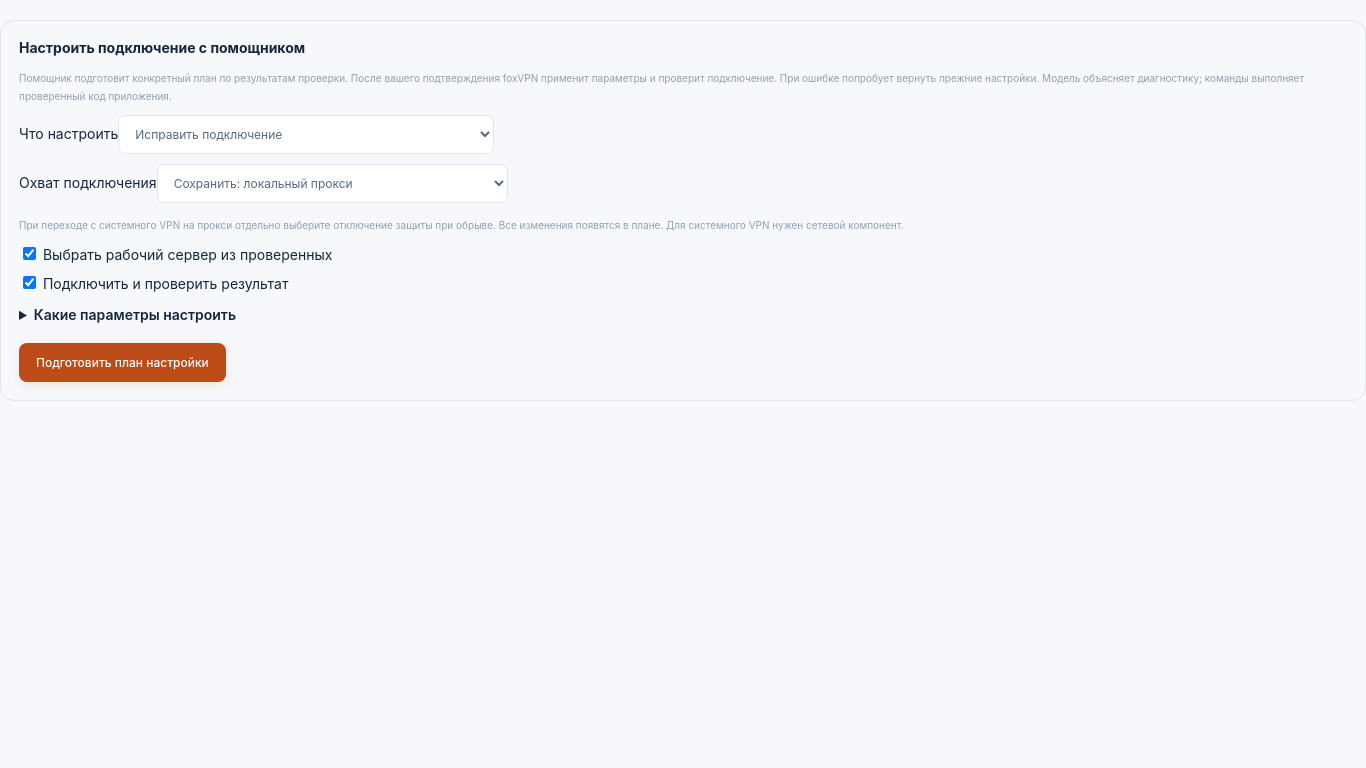
Test: Mac proxy and system scope are explicit and final preview shows the backend scope
The image size is (1366, 768).
Expected: the option "Весь трафик Mac через VPN" is not shown
Select "Системный VPN всего Mac" in the dropdown labelled "Охват подключения" at point(332, 184), box x1=157 y1=164 x2=508 y2=203
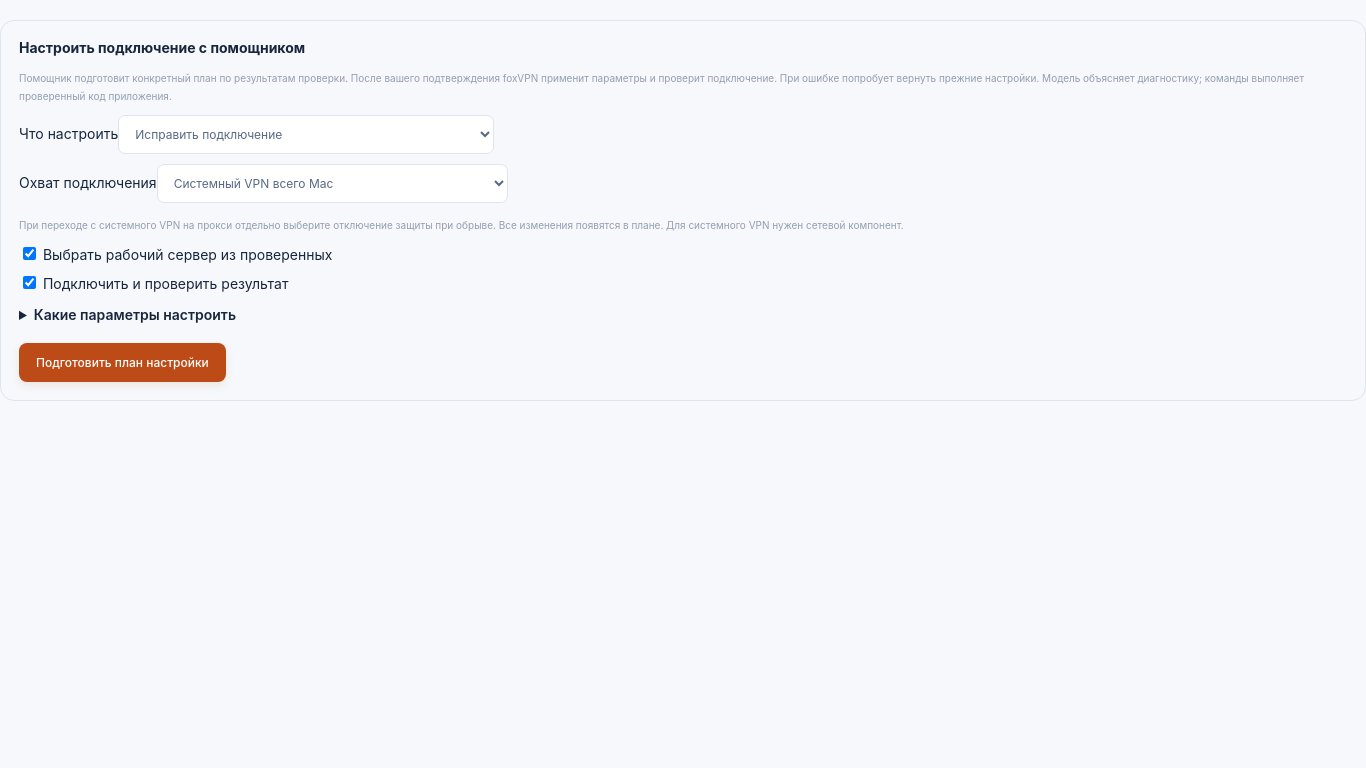
Select "Весь трафик Mac через VPN" in the dropdown named "Цель настройки" at point(306, 134), box x1=118 y1=115 x2=494 y2=154
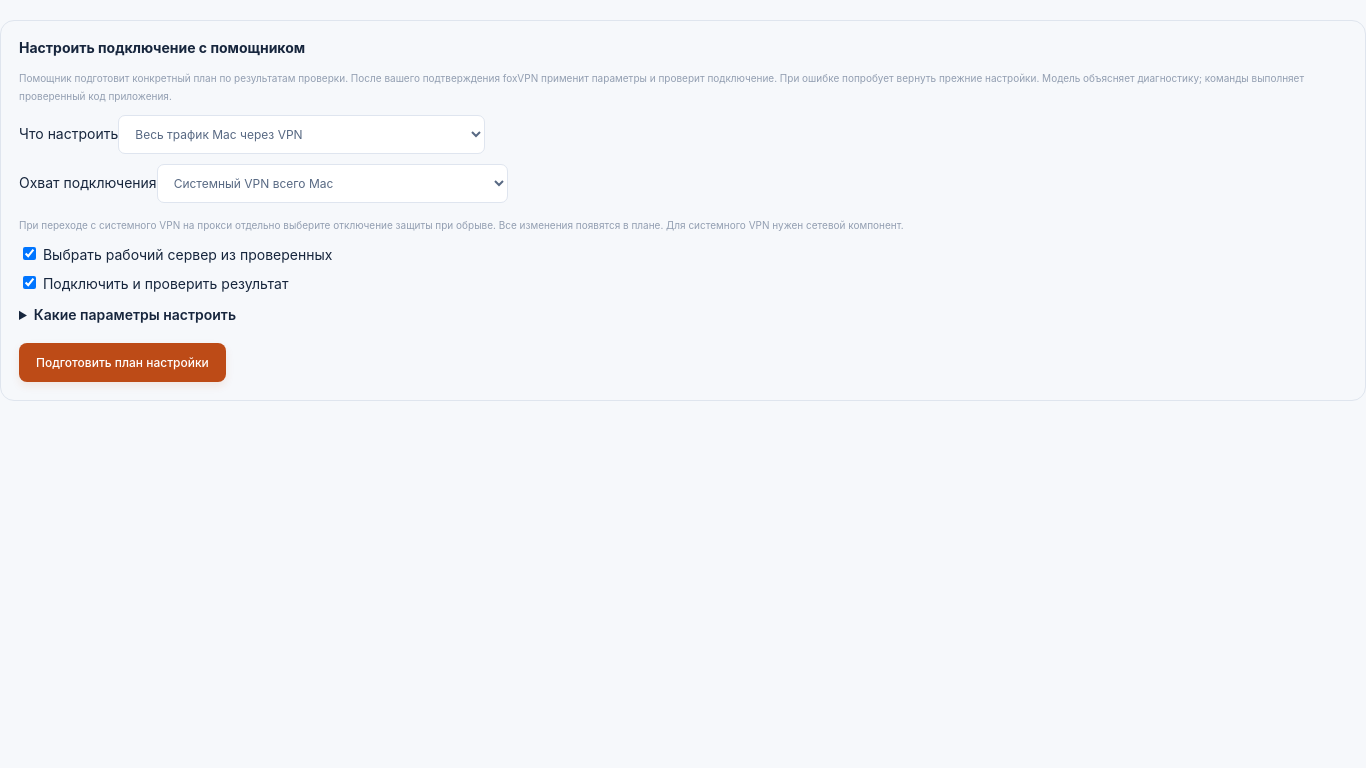
Click the button "Подготовить план настройки" at point(122, 362), box x1=19 y1=343 x2=226 y2=382
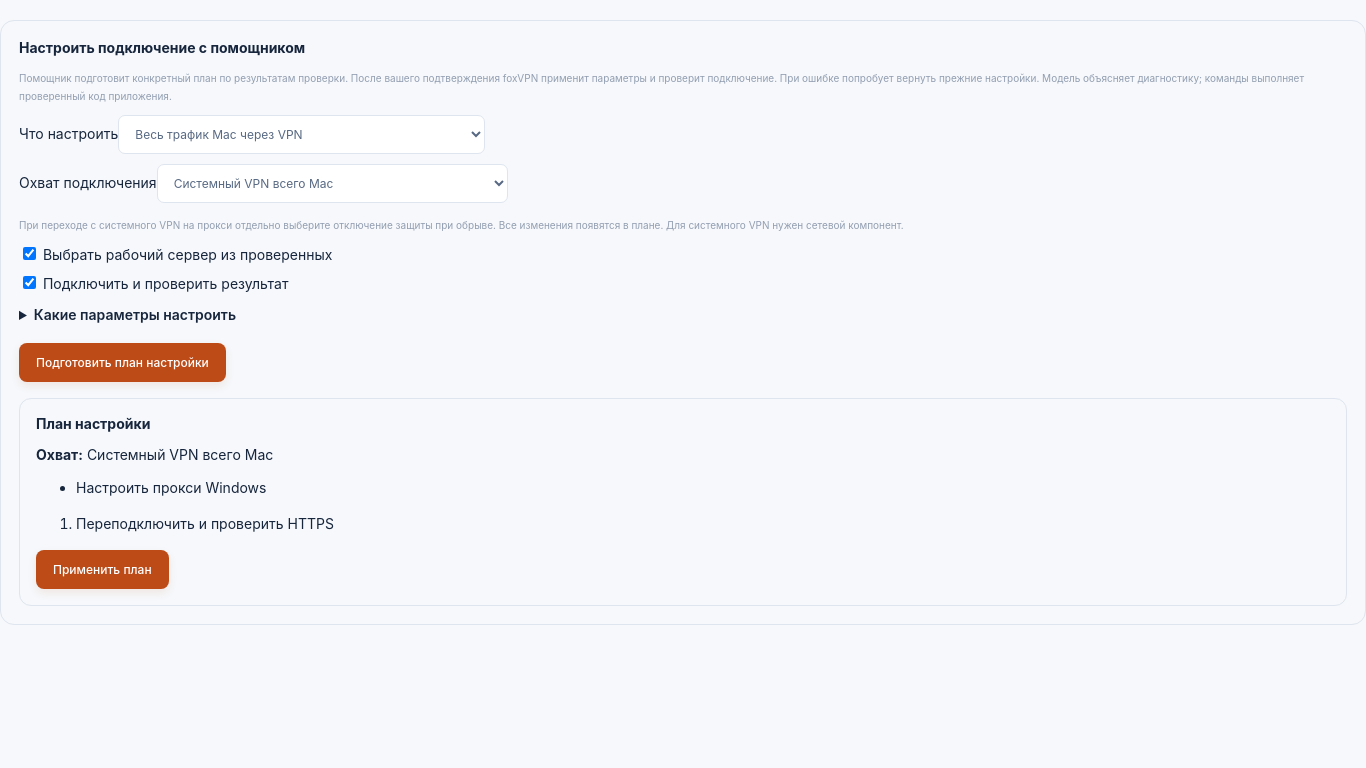
Expected: the text "План настройки" is shown, x1=36 y1=415 x2=150 y2=432
Click the button "Применить план" at point(102, 569), box x1=36 y1=550 x2=169 y2=589
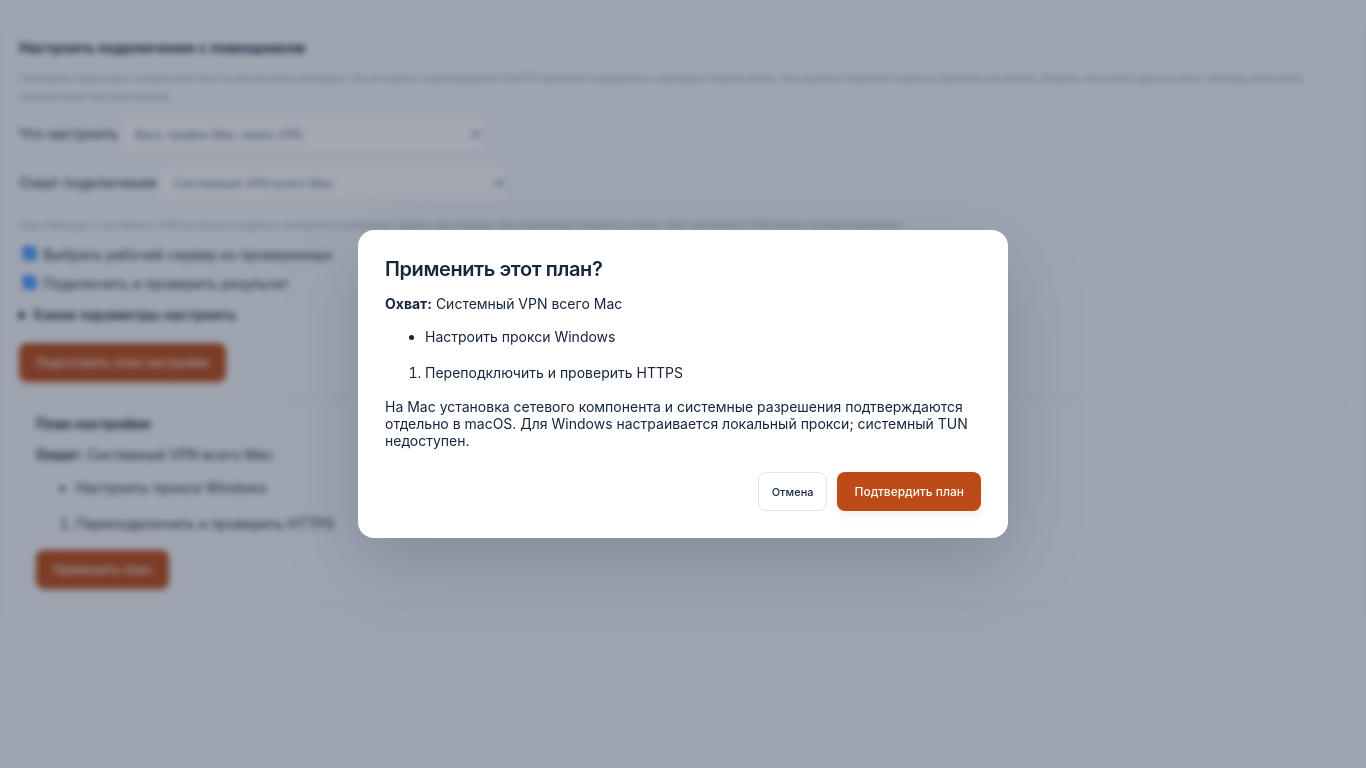
Expected: the dialog shows "Системный VPN всего Mac", x1=436 y1=295 x2=622 y2=312
